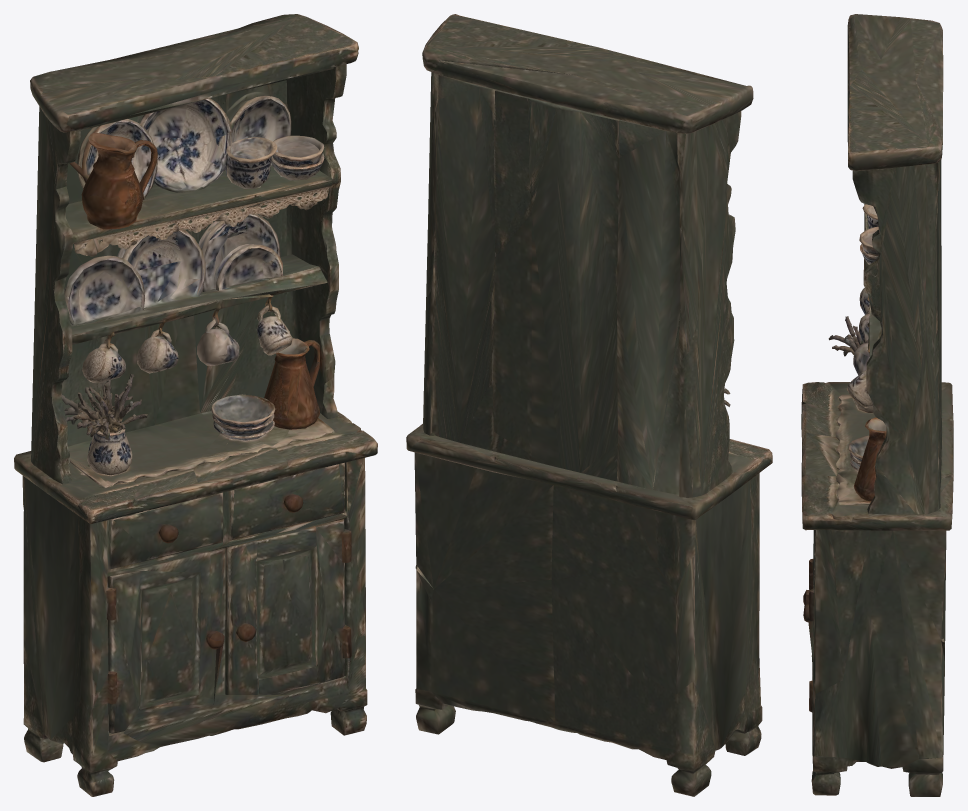
File: k_dresser.glb
3 renders of one model, left to right at view 1: azimuth 30°, elevation 25°; view 2: azimuth 150°, elevation 25°; view 3: azimuth 270°, elevation 25°, orthographic. The views are drawn at different scales.
Visible parts, largest first — view 1: k_dresser; view 2: k_dresser; view 3: k_dresser.
Part boxes in pixels (x1,y1,x2,y2): k_dresser: (14, 14, 377, 796); k_dresser: (406, 14, 772, 796); k_dresser: (801, 14, 953, 796).
Bounding box in the file's own units: 0.9322 × 2 × 0.4248.
1 material, 1 textured.
